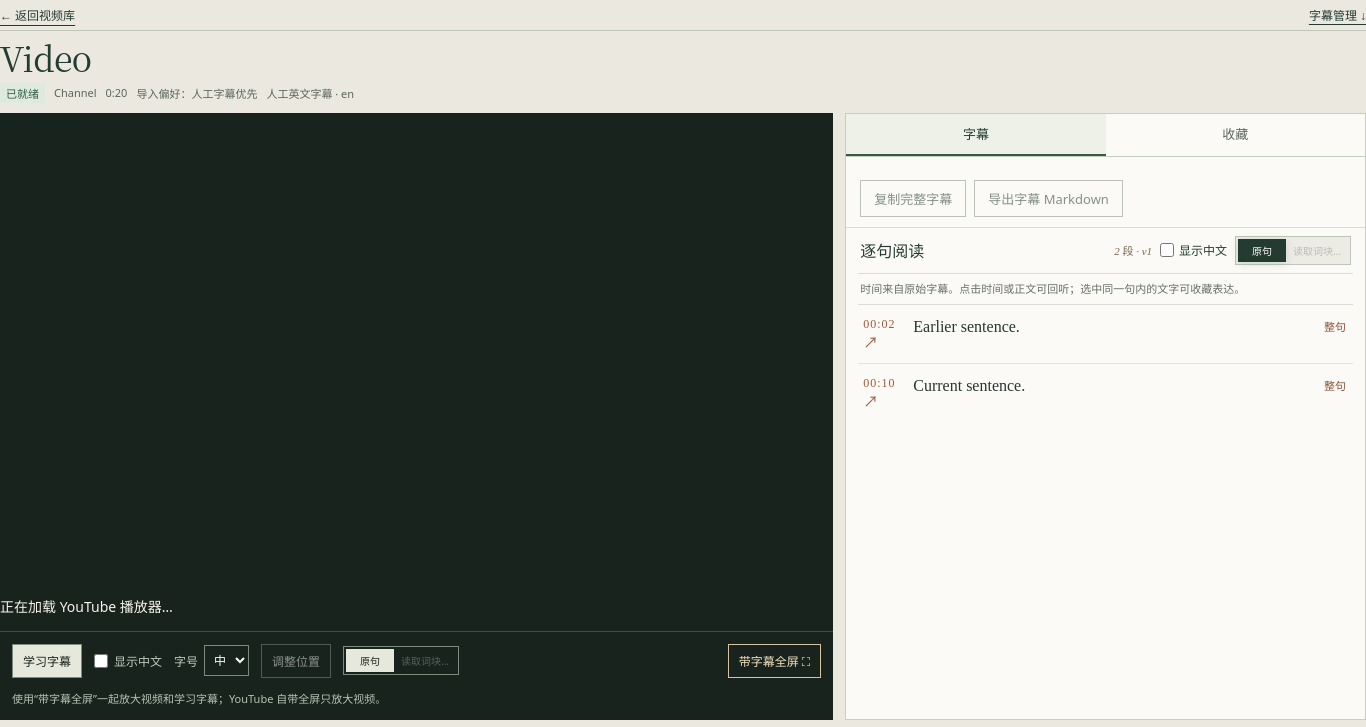
Test case: keeps the selection and allows retry when quick favorite fails
The width and height of the screenshot is (1366, 727).
Expected: the list with class "transcript-list" is shown, [858,304,1353,720]
Click the 1st button with class "segment-mark-whole" at [1335, 326], box [1320,312,1350,340]
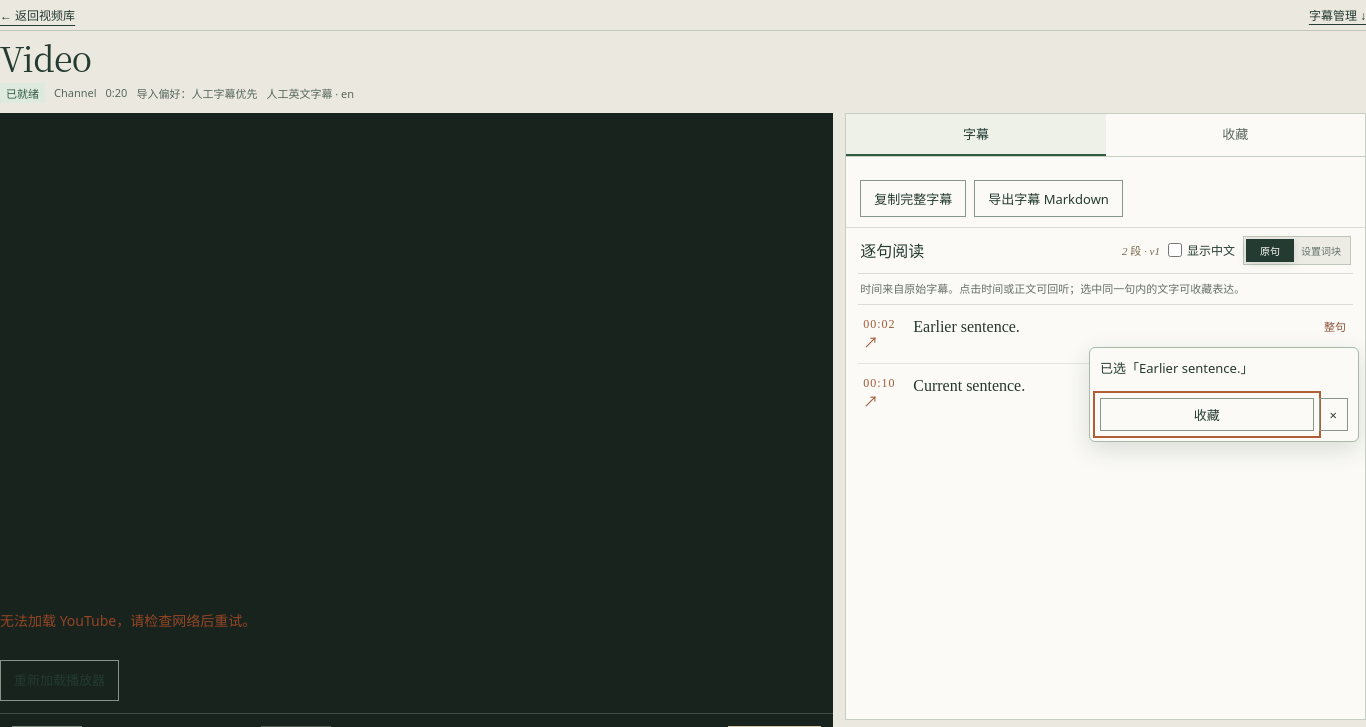
Click the button "收藏" at [1207, 415], box [1100,398,1314,432]
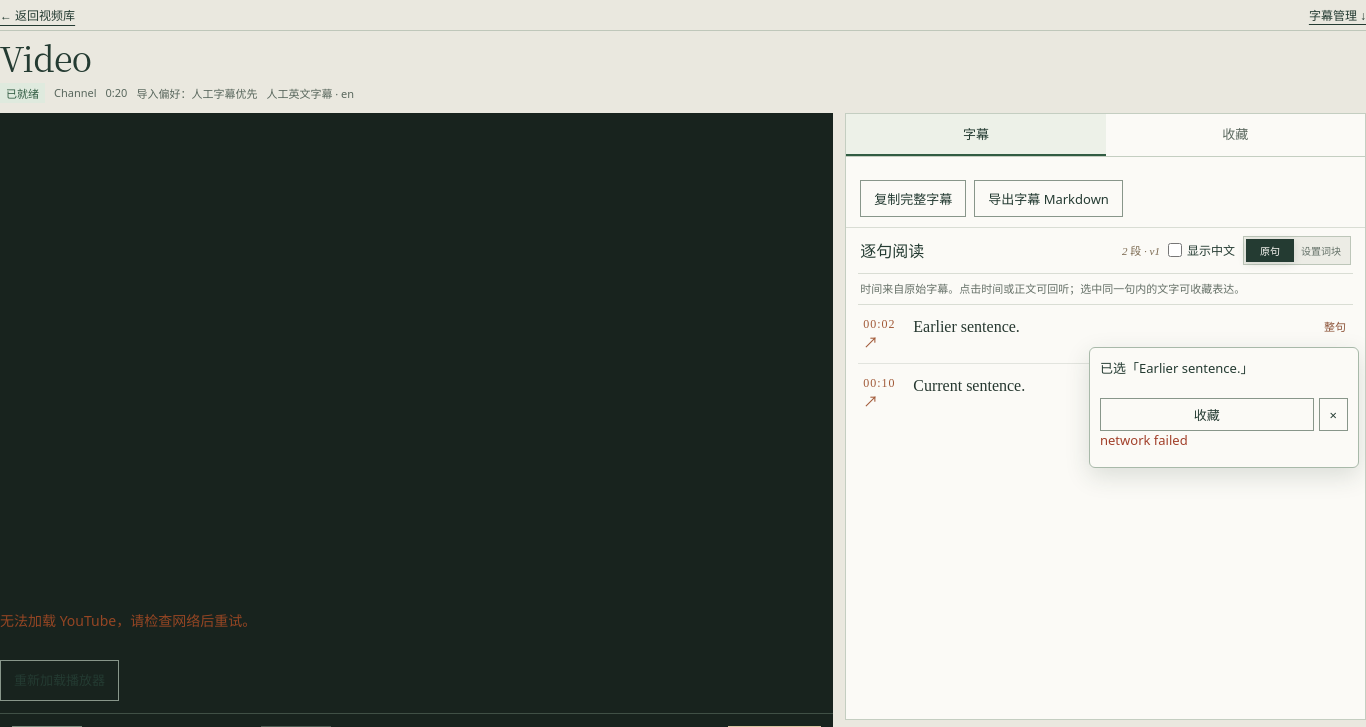
Result: the dialog with class "reader-selection-menu" shows "Earlier sentence." at [1139,360,1240,378]
Result: the dialog with class "reader-selection-menu" shows "network failed" at [1100,432,1188,450]
Click the button "收藏" at [1207, 415], box [1100,398,1314,432]
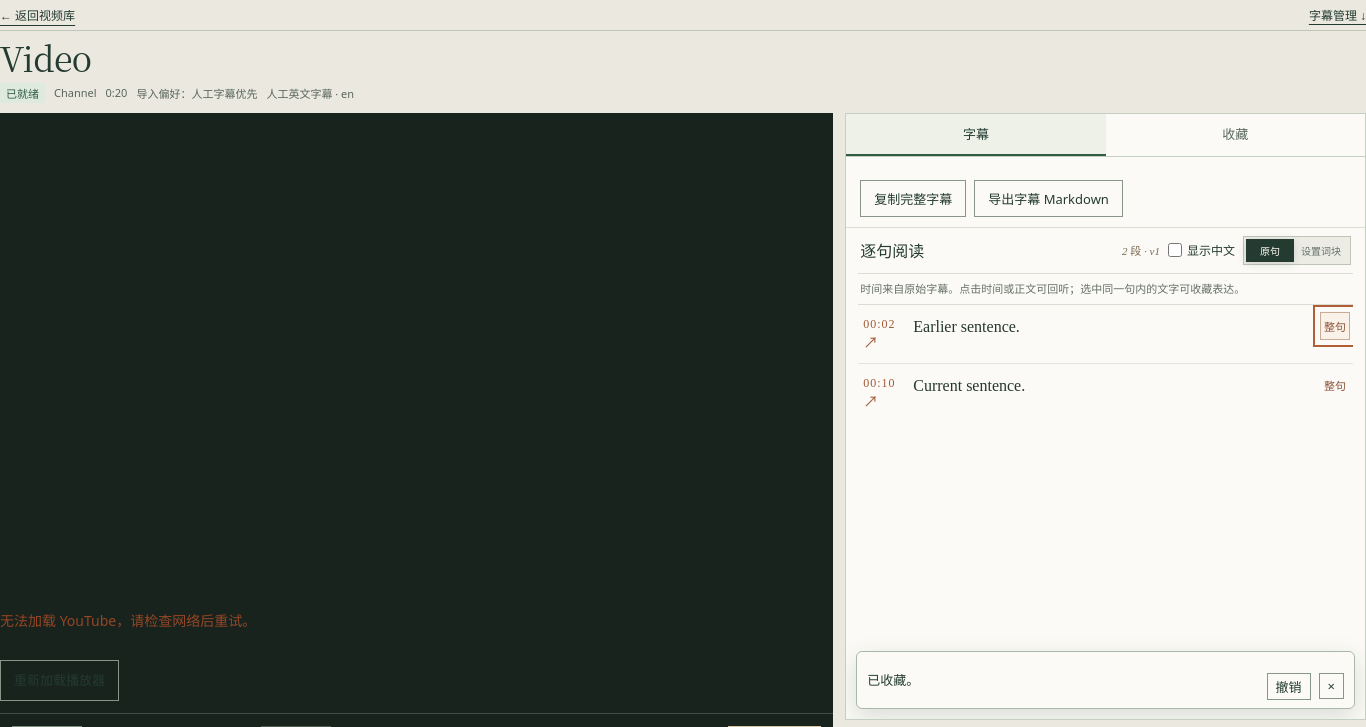
Result: the dialog with class "reader-selection-menu" is gone
